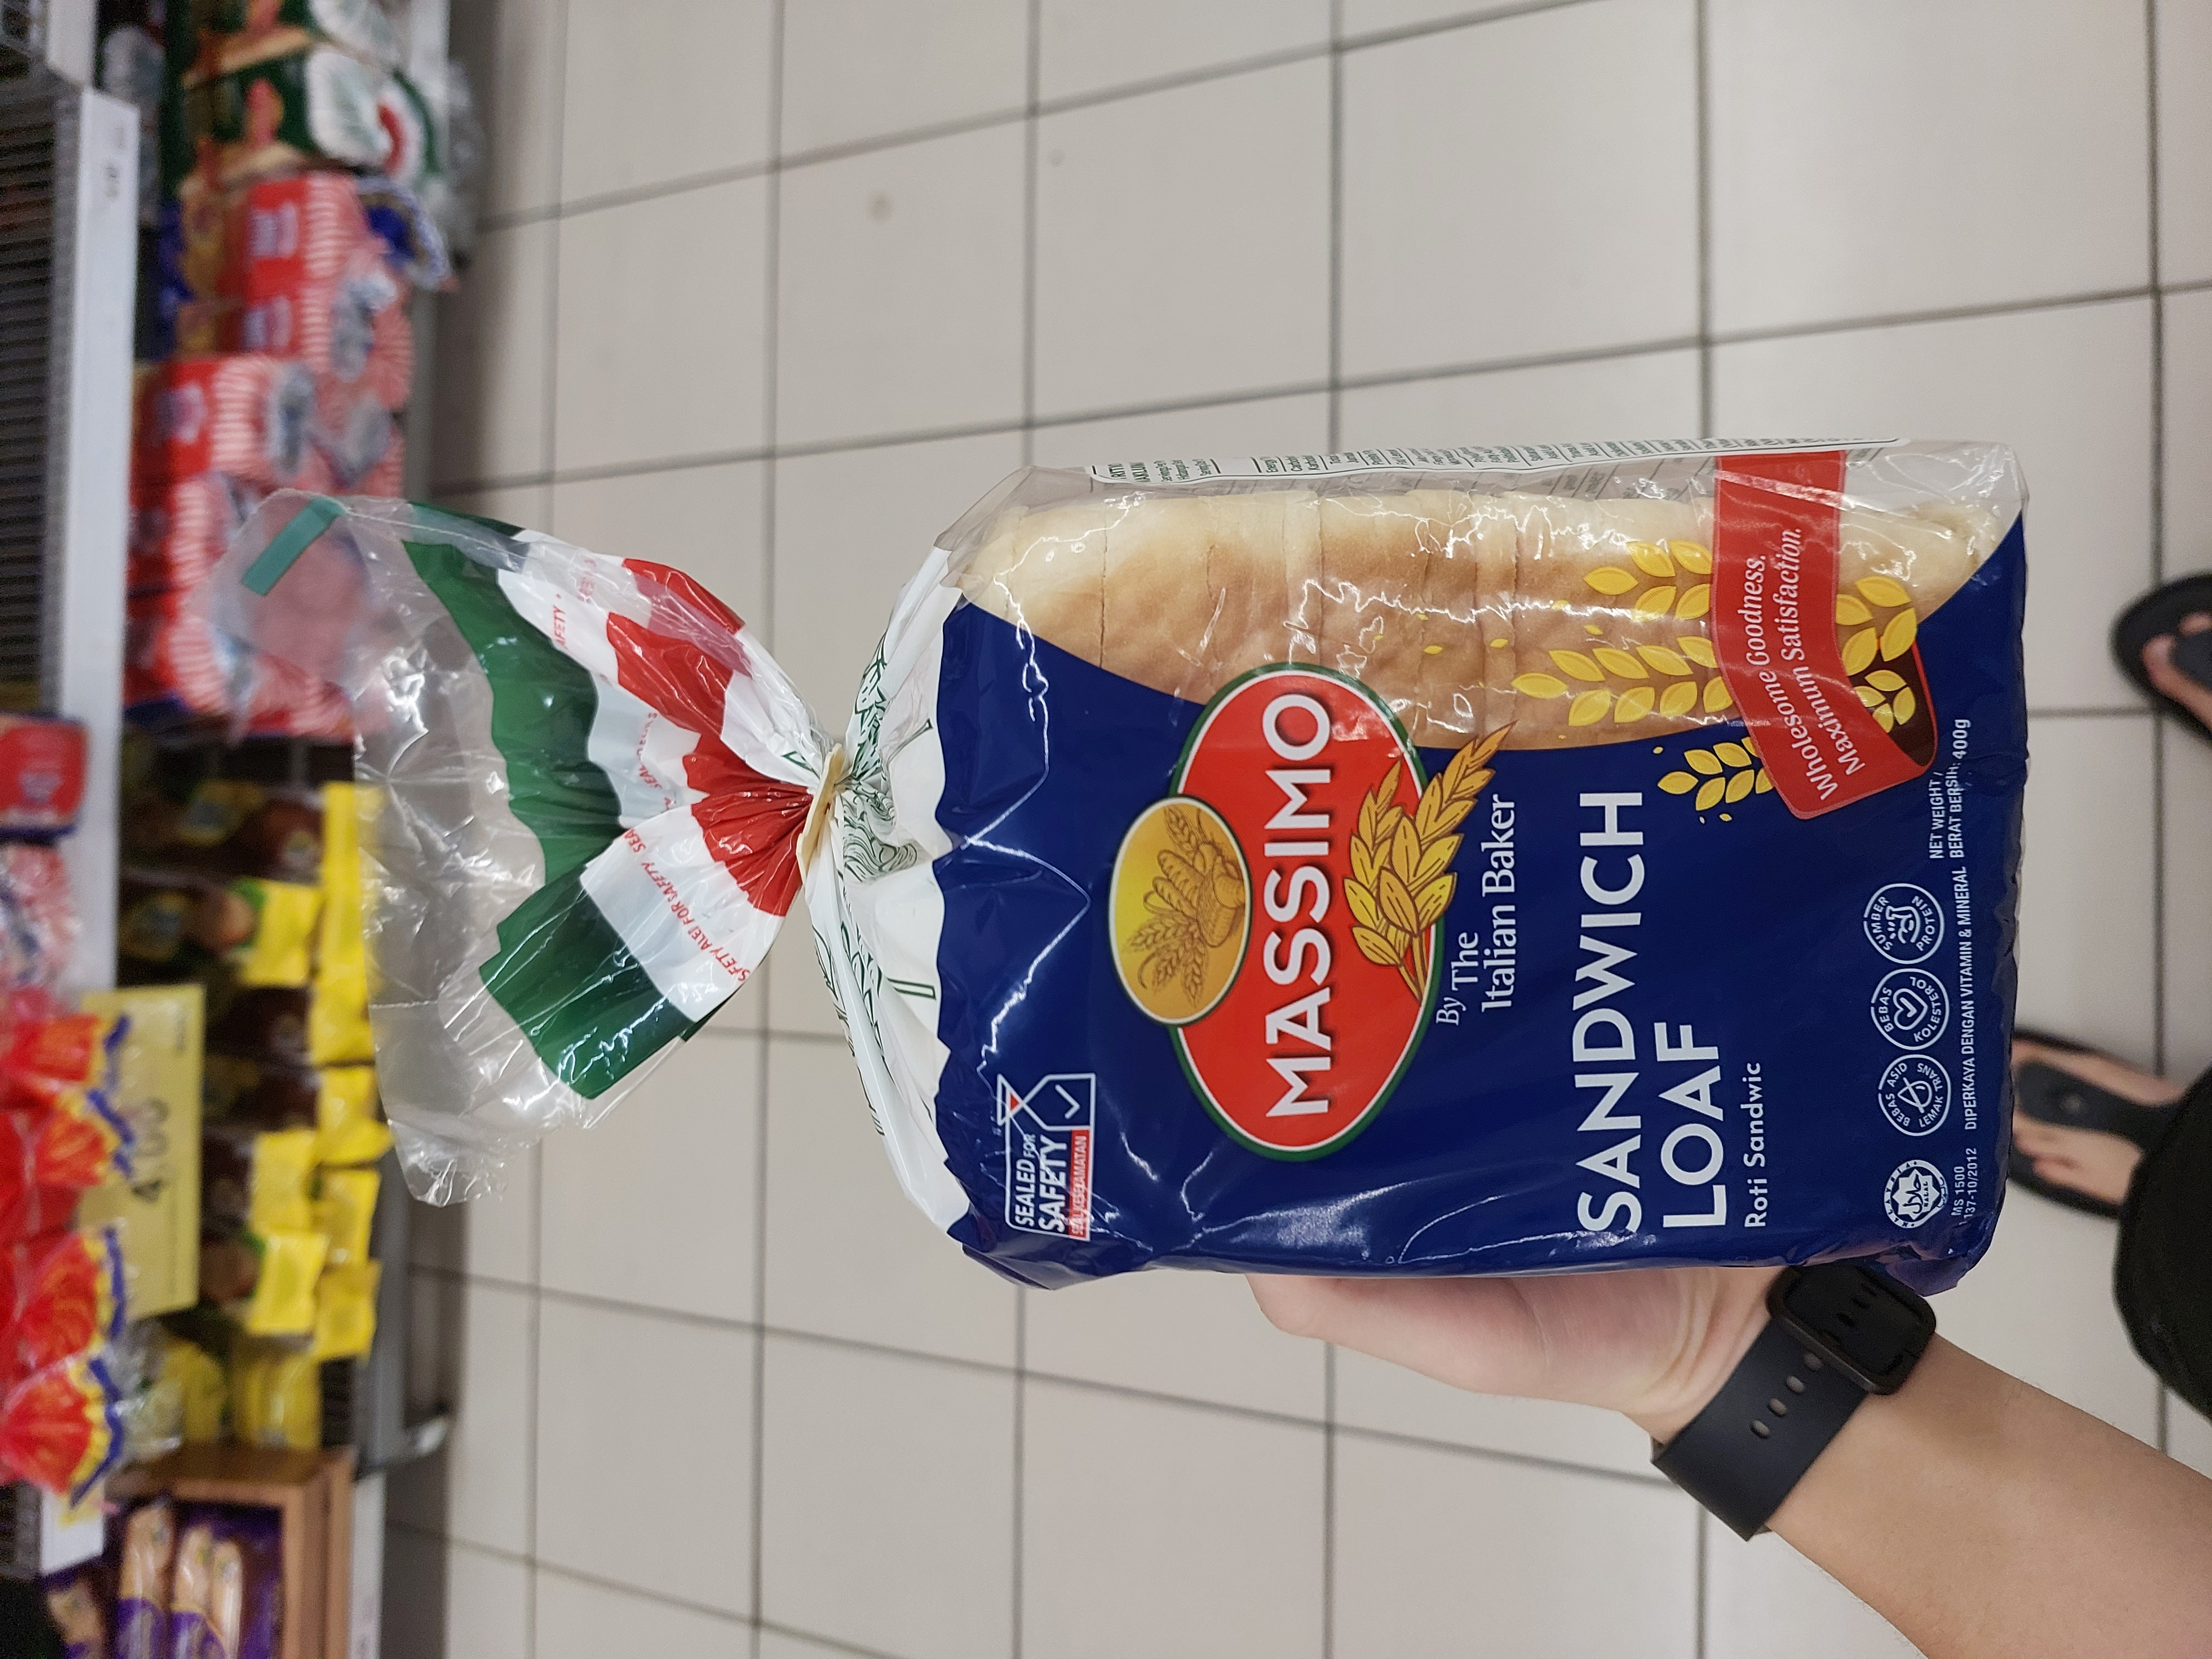bread: (413, 434, 2034, 1293)
